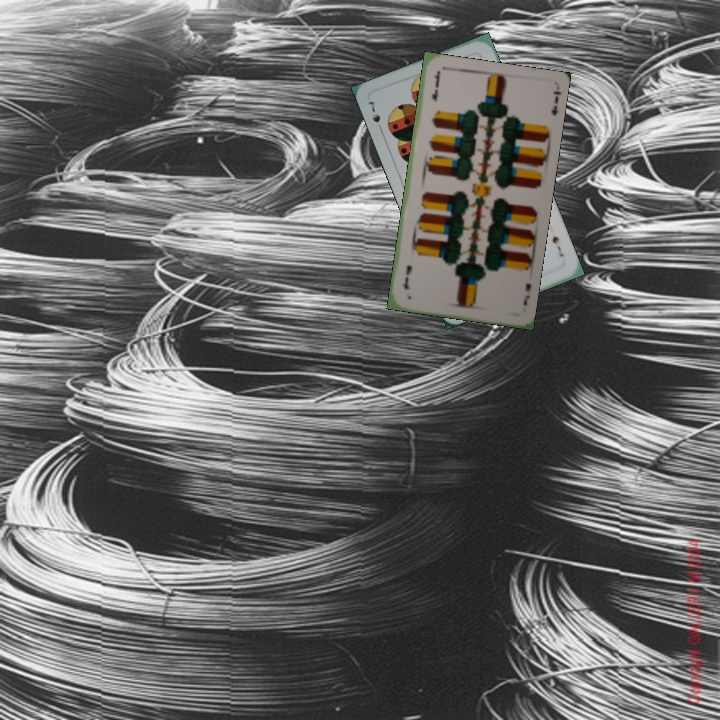E7: (428, 68, 442, 104), (519, 279, 534, 308)
S7: (364, 97, 385, 135), (548, 232, 567, 259)
